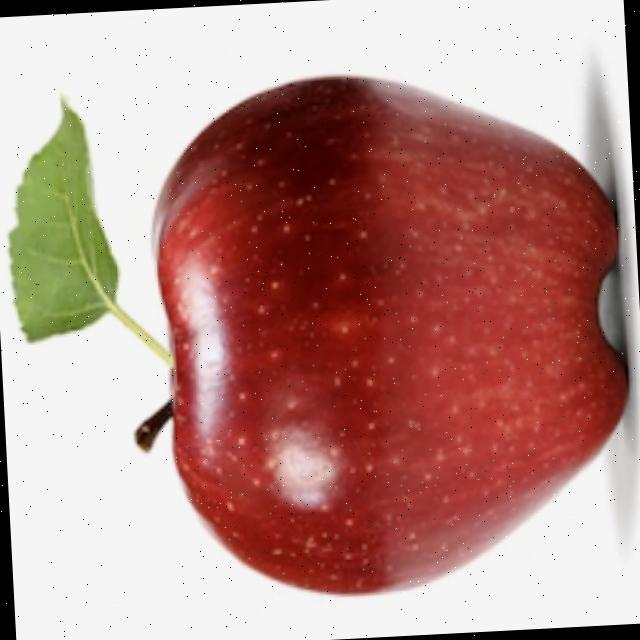Ripe: (120, 54, 640, 614)
